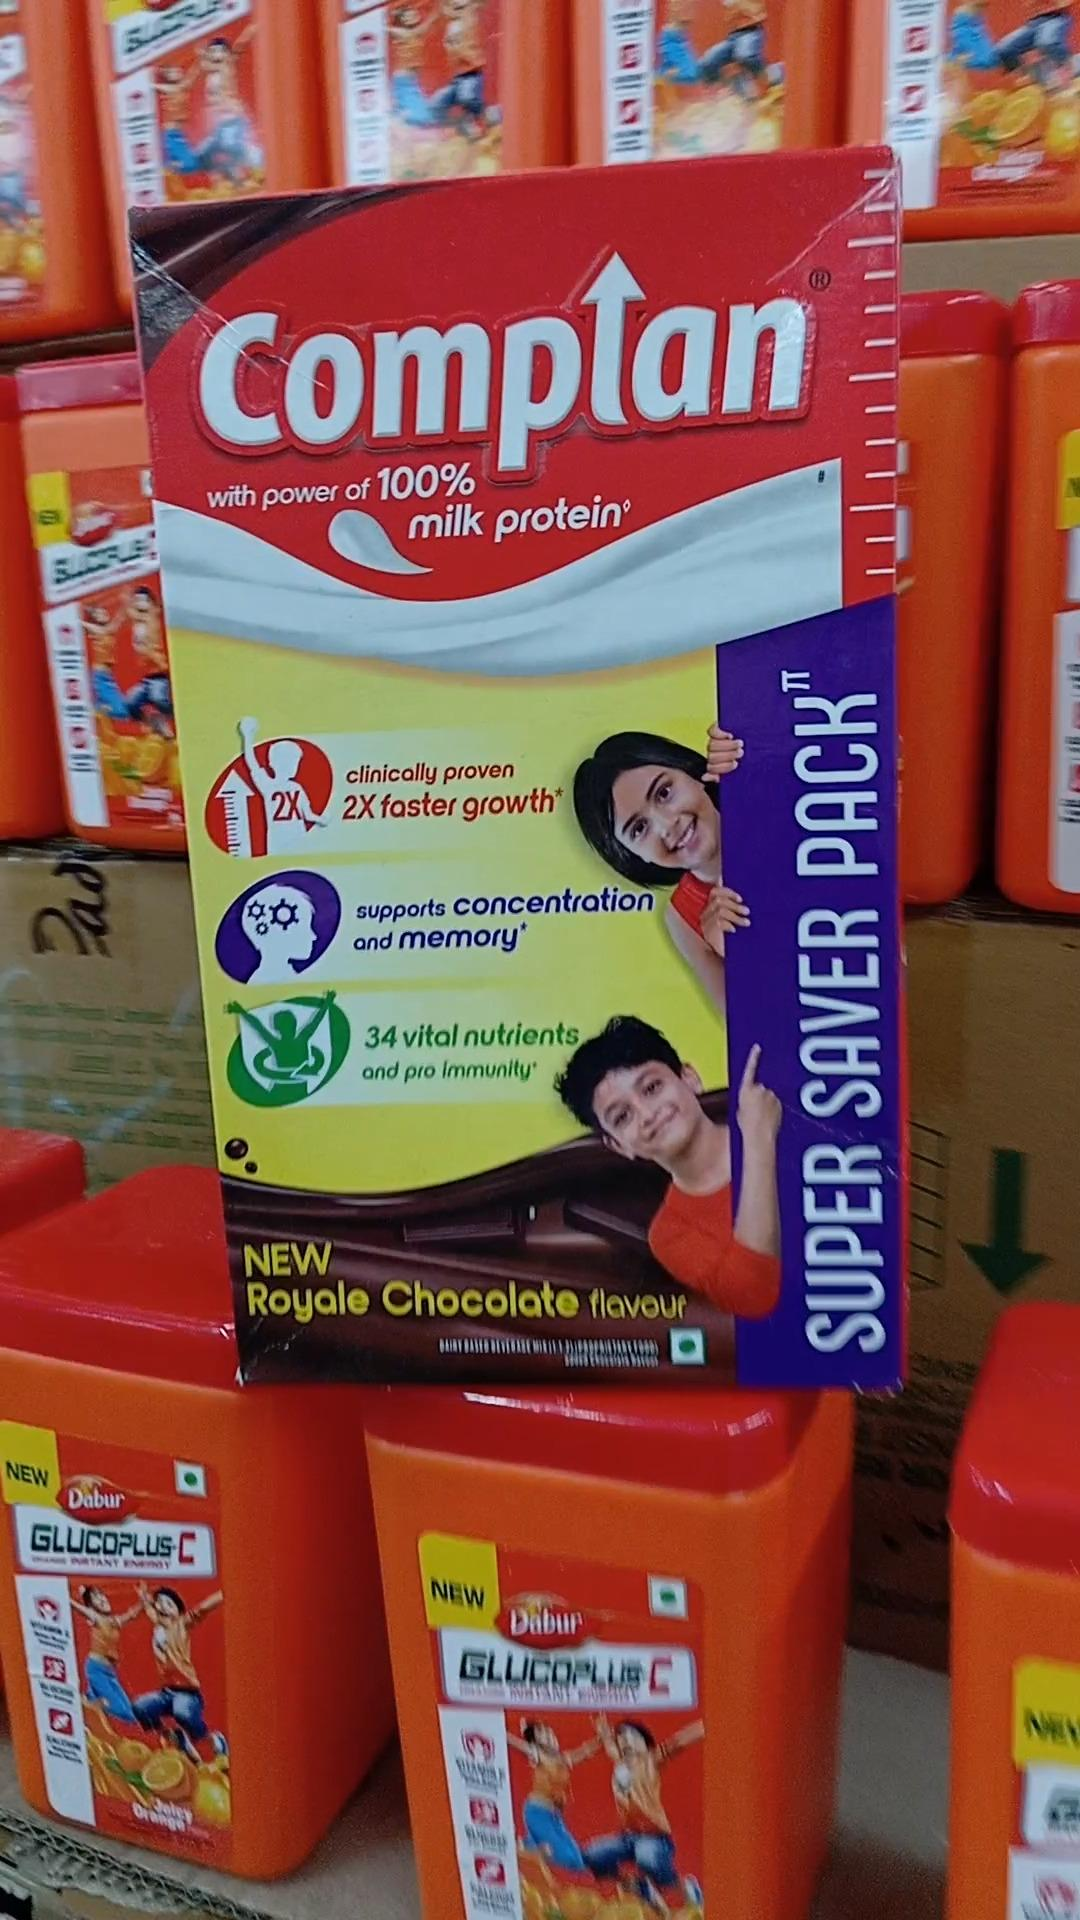COMPLAN_CHOCOLATE_1_KG_PACK: (140, 150, 901, 1390)
